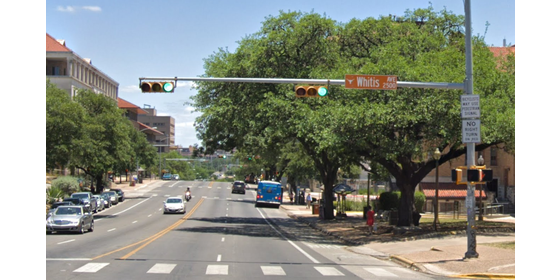bicyclists must use ped signal sign: (456, 92, 482, 119)
no right turn on red sign: (461, 119, 483, 144)
